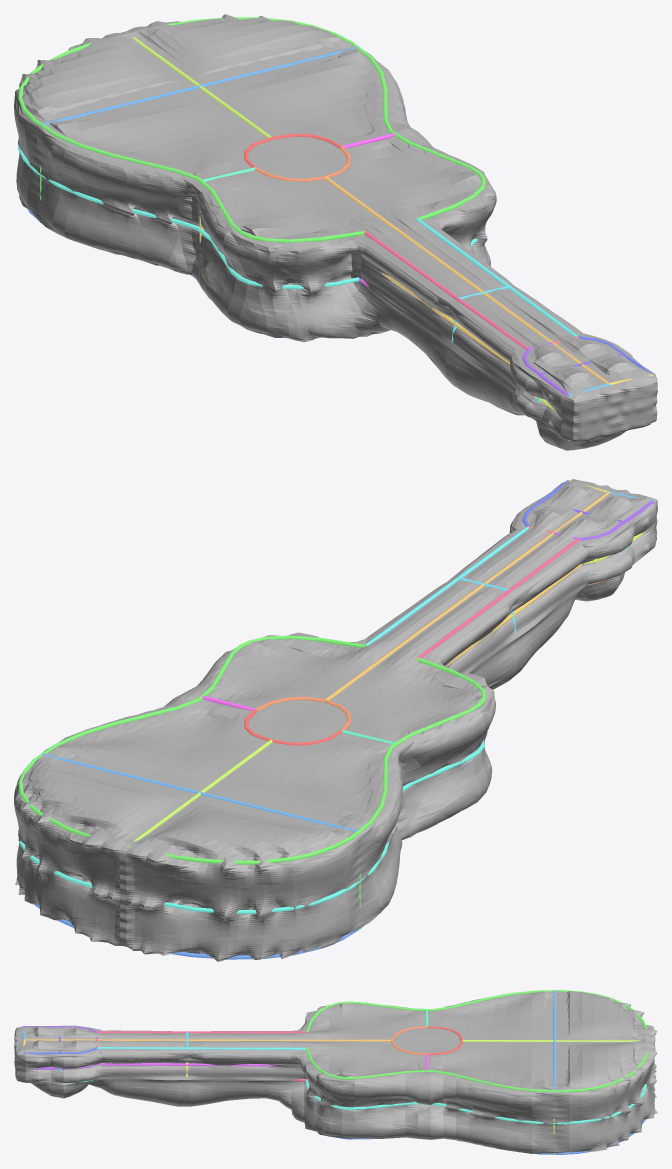
Rendered from t2f_guitar.gltf.
3 renders of one model, top to bottom at view 1: azimuth 30°, elevation 25°; view 2: azimuth 150°, elevation 25°; view 3: azimuth 270°, elevation 25°, orthographic. The views are drawn at different scales.
Size of the model in its own units: 0.3691 by 0.1259 by 0.956.
